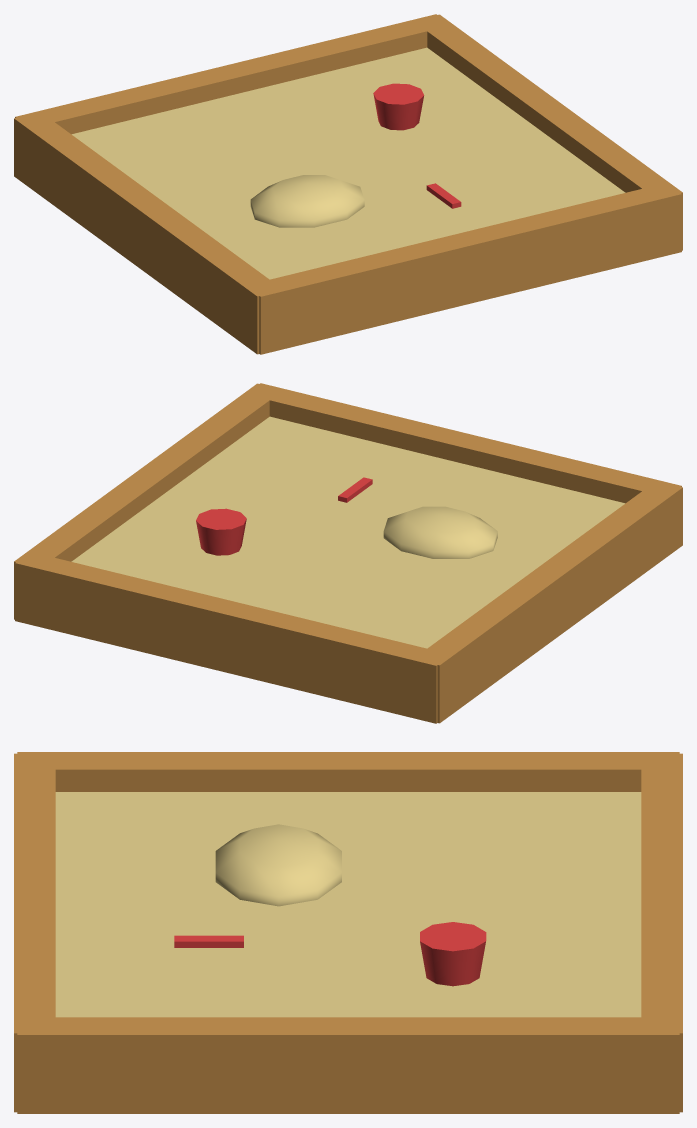
Rendered from sandbox.glb.
3 renders of one model, top to bottom at view 1: azimuth 30°, elevation 25°; view 2: azimuth 150°, elevation 25°; view 3: azimuth 270°, elevation 25°, orthographic. The views are drawn at different scales.
Visible parts, largest first — view 1: sandbox; view 2: sandbox; view 3: sandbox.
Part boxes in pixels (x1,y1,x2,y2): sandbox: (14,14,682,354); sandbox: (14,383,682,723); sandbox: (14,752,682,1113).
Size of the model in its own units: 1.92 by 0.3 by 1.92.
